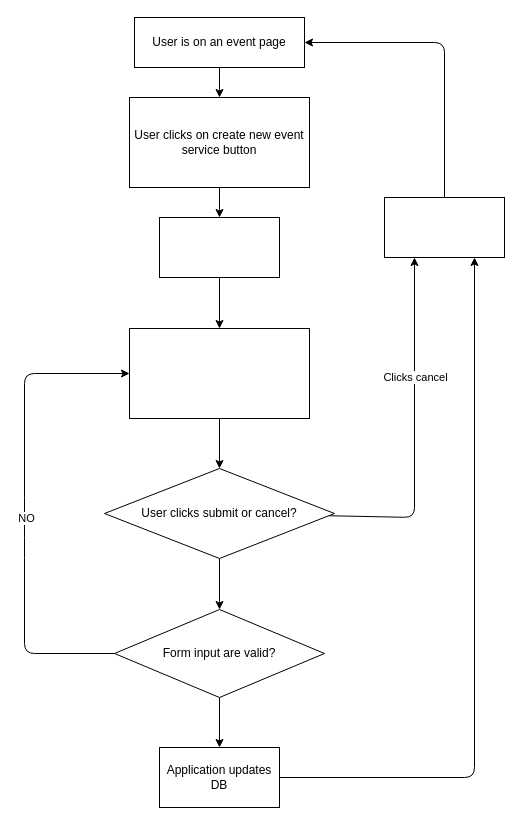
The diagram is 522 pixels wide and 825 high, and some of its shapes have lost their labels. The box of each missing label's shape, as (x1, y1, x2, y2) in pixels:
Modal Closes: (384, 196, 504, 258)
Modal opens: (158, 216, 280, 278)
User fills out event form and adds uploaded image for event: (128, 328, 310, 418)
